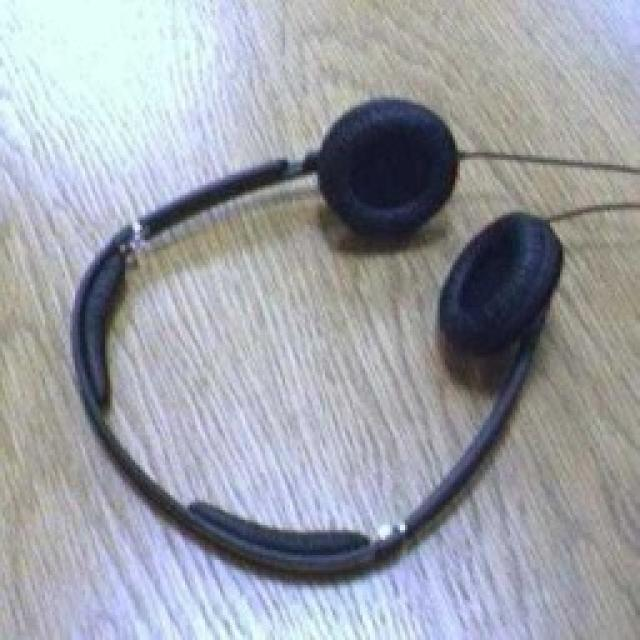headphones: (65, 95, 565, 575)
